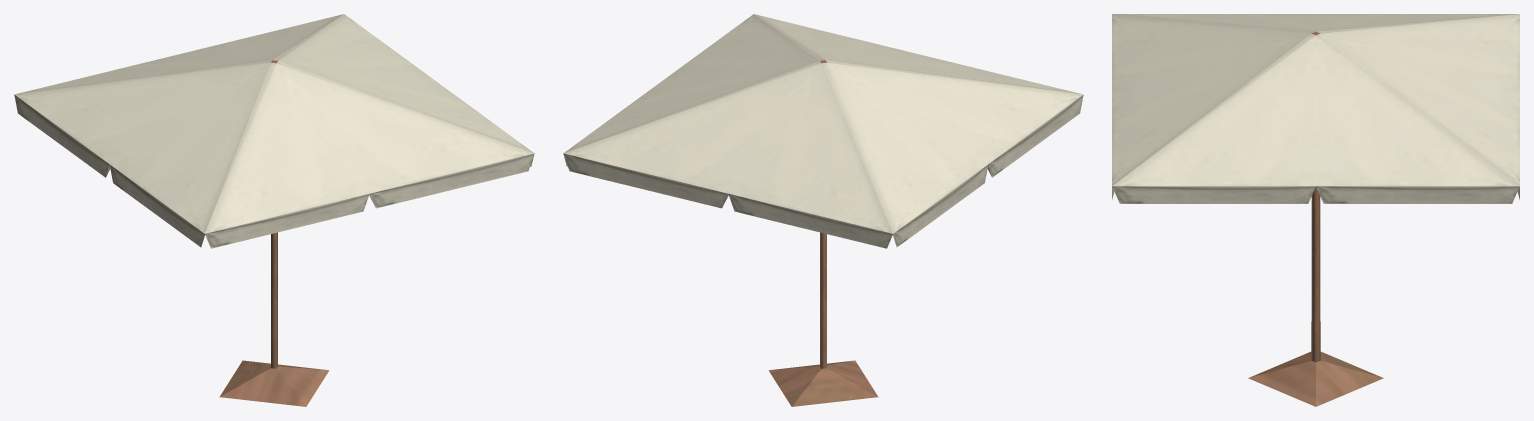
Rendered from Umbrella_01.FBX.
3 renders of one model, left to right at view 1: azimuth 30°, elevation 25°; view 2: azimuth 150°, elevation 25°; view 3: azimuth 270°, elevation 25°, orthographic. The views are drawn at different scales.
Parts seen in each view (by area): view 1: Umbrella_01; view 2: Umbrella_01; view 3: Umbrella_01.
Boxes of the visible parts, x1,y1,x2,y2 form: Umbrella_01: (14,14,534,406); Umbrella_01: (563,14,1083,406); Umbrella_01: (1112,14,1519,406).
Size of the model in its own units: 3.16 by 2.95 by 3.16.
